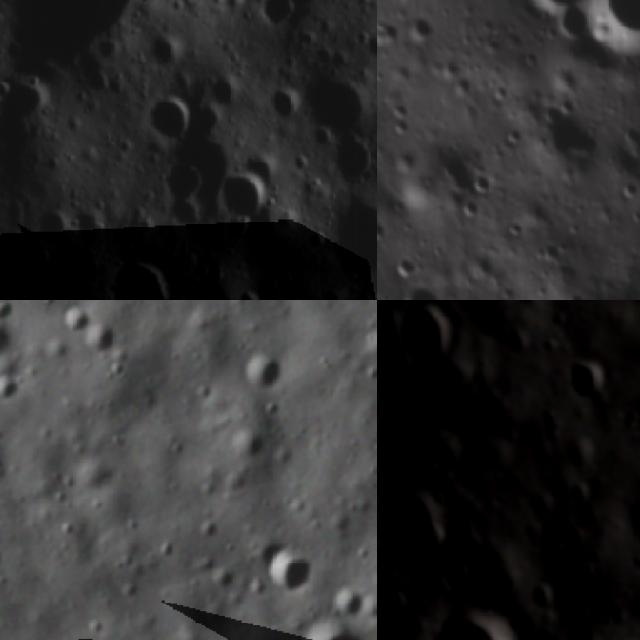crater: (519, 78, 618, 183), (377, 476, 459, 579), (308, 76, 377, 182), (397, 300, 466, 376), (424, 134, 488, 205), (565, 346, 622, 422), (571, 0, 640, 58), (260, 547, 322, 602), (236, 345, 296, 399), (108, 256, 181, 300), (417, 608, 512, 640), (165, 165, 211, 231), (0, 76, 54, 131), (288, 614, 376, 640), (223, 170, 270, 218), (222, 424, 272, 469), (77, 314, 123, 361), (150, 90, 190, 144), (381, 269, 450, 300), (516, 0, 599, 25), (534, 531, 578, 574), (326, 582, 369, 624), (51, 301, 92, 343), (255, 0, 308, 27), (356, 577, 377, 626), (0, 310, 15, 365), (234, 282, 267, 300), (0, 300, 21, 325)
